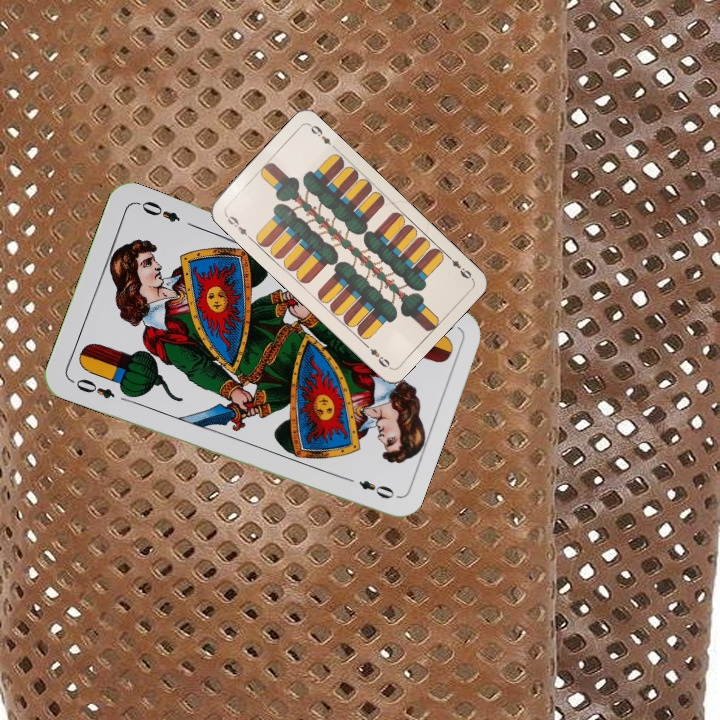E9: (221, 210, 254, 242), (442, 250, 474, 282)
EO: (67, 374, 118, 402)
